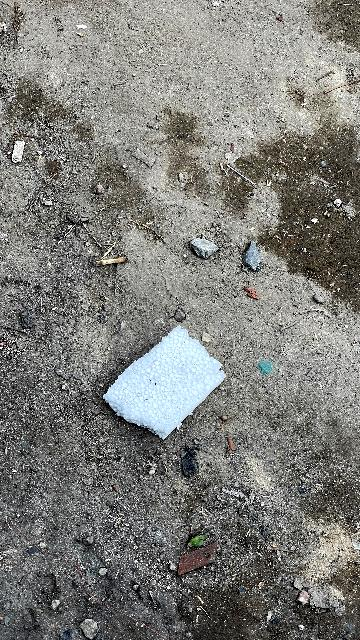cocksheet: (99, 318, 238, 445)
